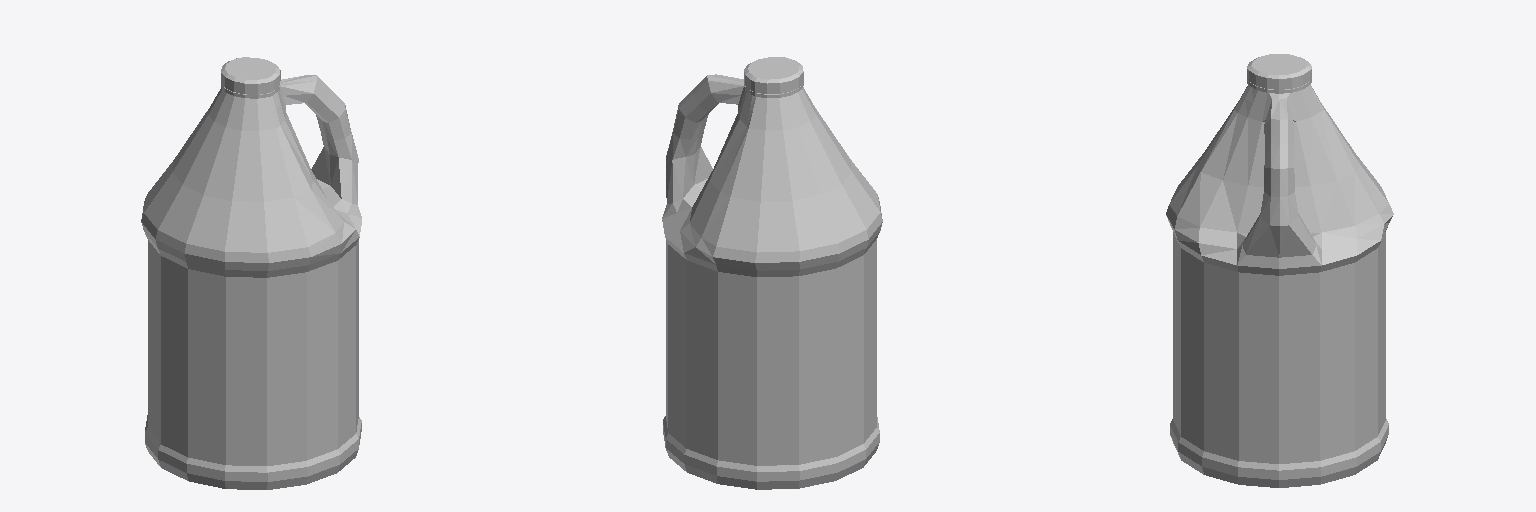
The model's file is Pirax.obj.
The picture shows the model from 3 angles: view 1: azimuth 30°, elevation 25°; view 2: azimuth 150°, elevation 25°; view 3: azimuth 270°, elevation 25°; orthographic projection.
Size of the model in its own units: 0.8147 by 1.46 by 0.8.